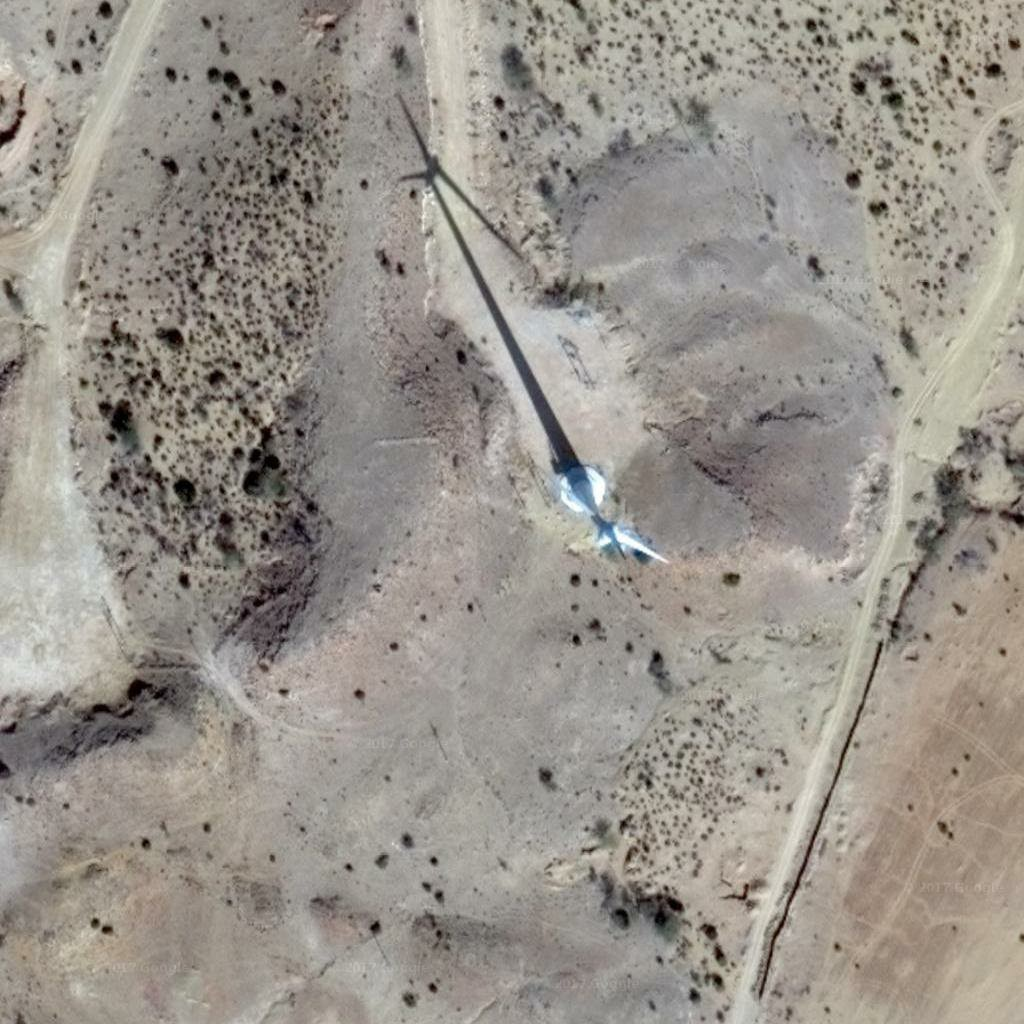Windmill: (381, 91, 595, 475)
